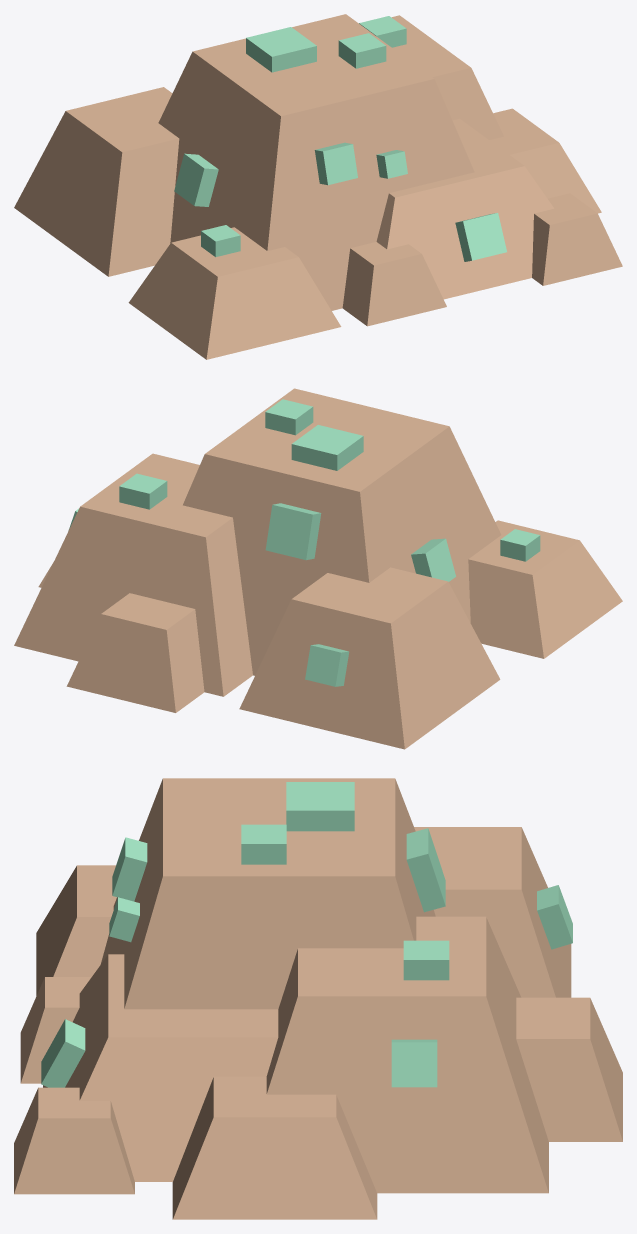
File: rocksOre.glb
3 renders of one model, top to bottom at view 1: azimuth 30°, elevation 25°; view 2: azimuth 150°, elevation 25°; view 3: azimuth 270°, elevation 25°, orthographic. The views are drawn at different scales.
Parts seen in each view (by area): view 1: rocksOre; view 2: rocksOre; view 3: rocksOre.
Part boxes in pixels (left/top/right/bottom): rocksOre: left=14, top=14, right=622, bottom=359; rocksOre: left=14, top=388, right=622, bottom=749; rocksOre: left=14, top=778, right=622, bottom=1219.
Size of the model in its own units: 8.93 by 3.7 by 8.03.
